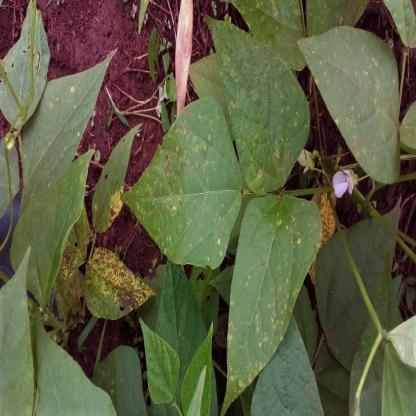Beans_Rust: (226, 196, 313, 415), (16, 49, 118, 202), (136, 109, 239, 260), (300, 19, 398, 176), (216, 19, 306, 187), (17, 140, 96, 303), (82, 250, 146, 322)
